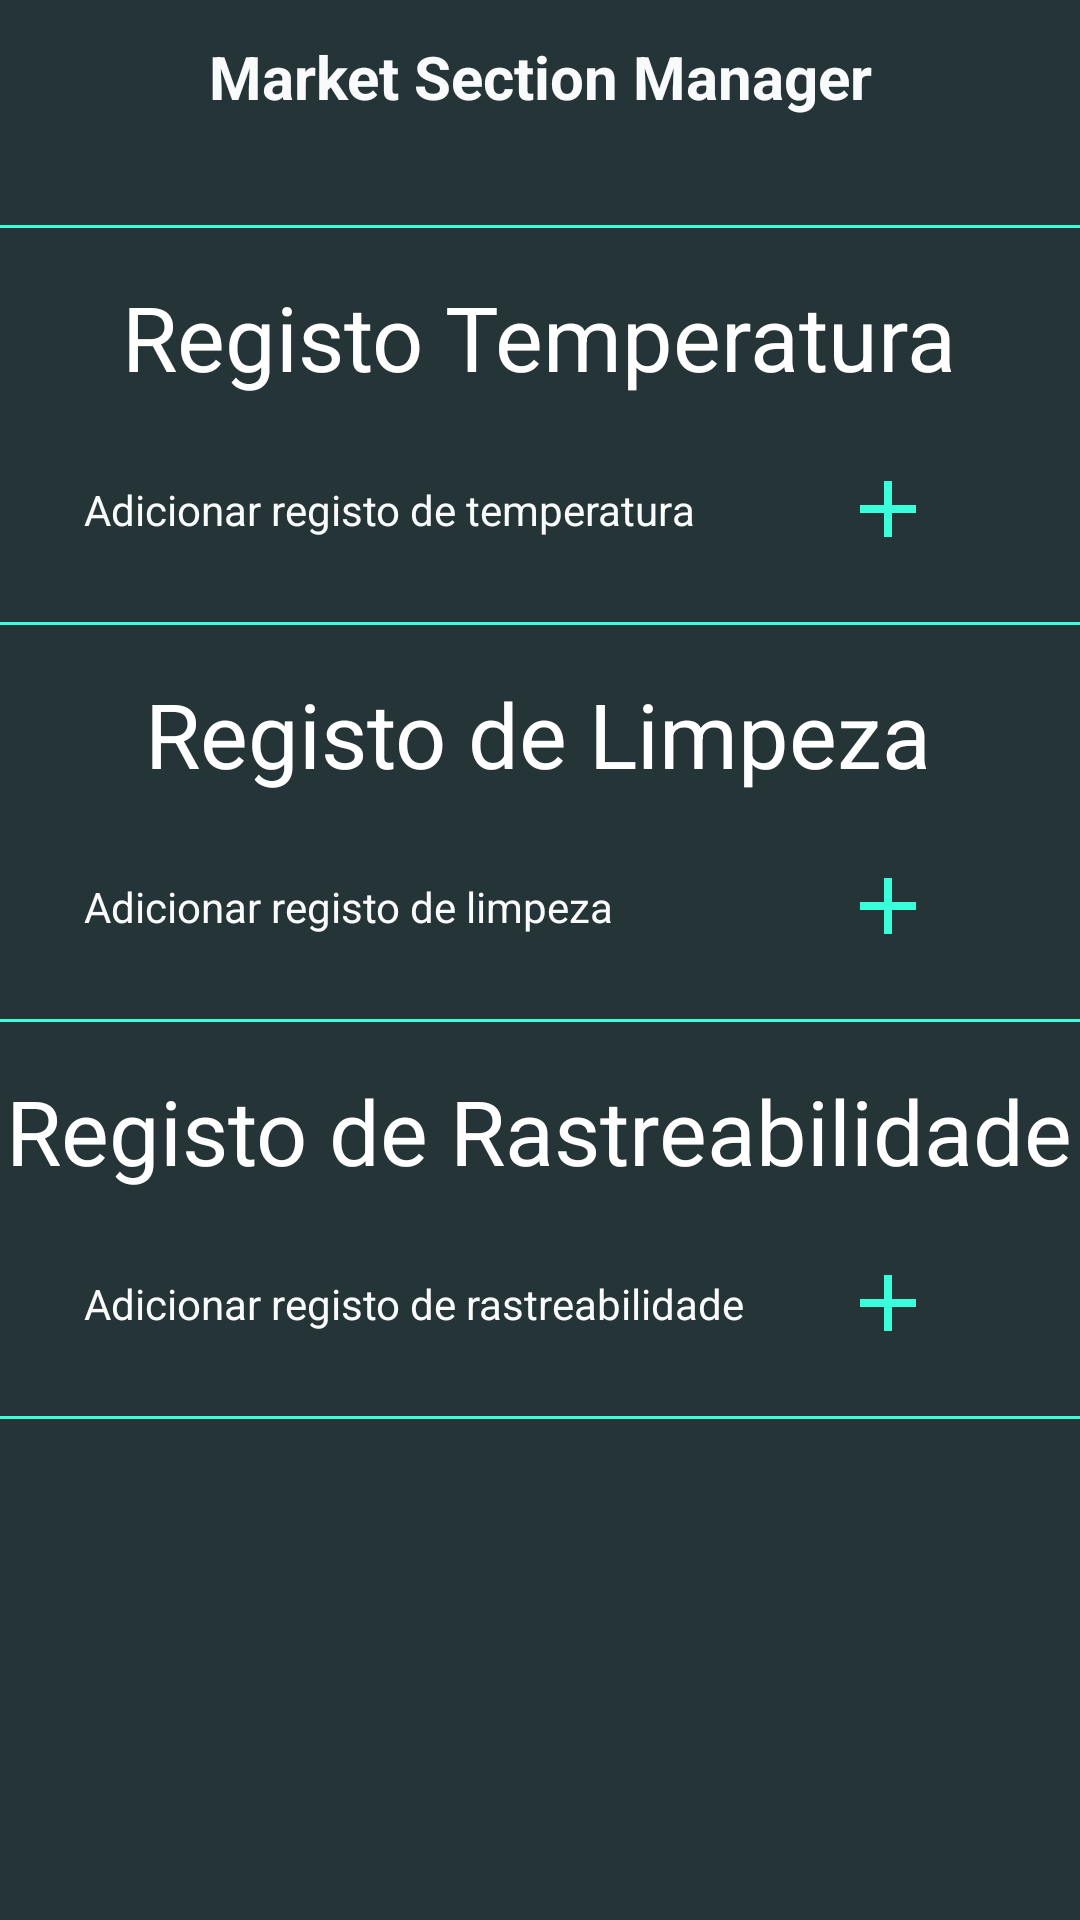

Screen size 1080 × 1920. Icon name, then its center in pixels as (x,y):
add: (888,509), (888,906), (888,1303)
